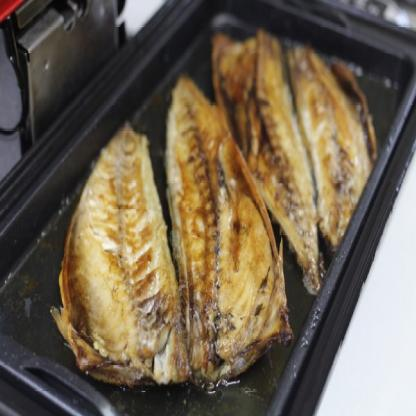Peixe: (54, 23, 382, 399)
